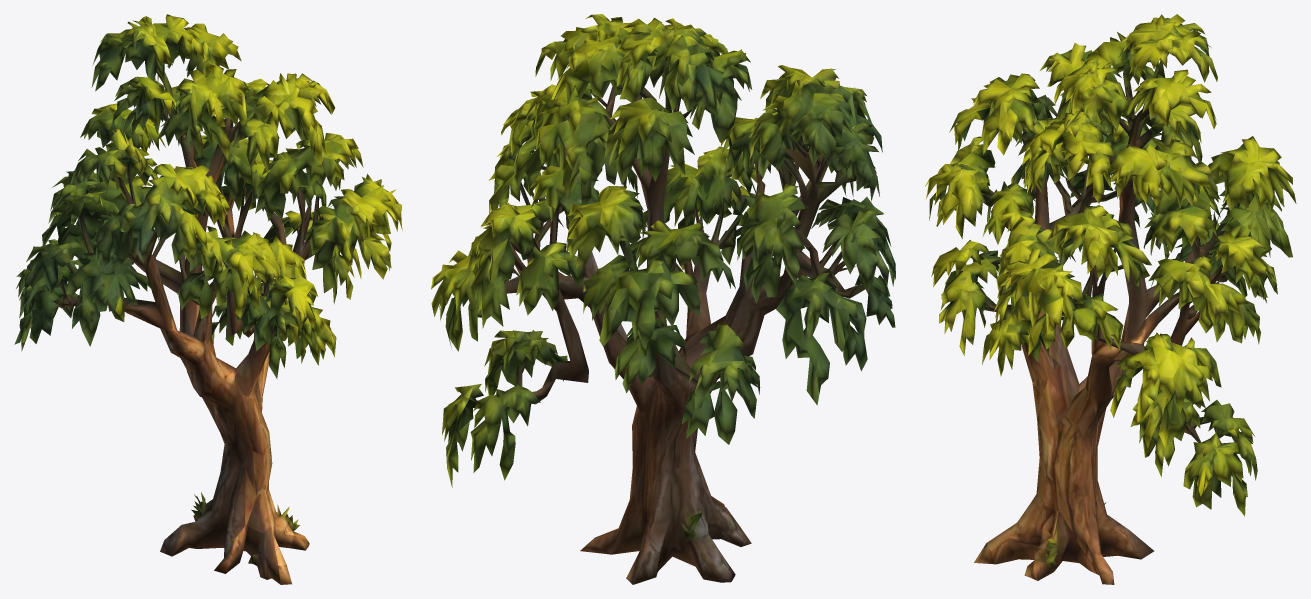
The model's file is tree.glb.
The picture shows the model from 3 angles, left to right: view 1: azimuth 30°, elevation 25°; view 2: azimuth 150°, elevation 25°; view 3: azimuth 270°, elevation 25°; orthographic projection. The views are drawn at different scales.
Visible parts, largest first — view 1: TripoTree_Mesh; view 2: TripoTree_Mesh; view 3: TripoTree_Mesh.
Part boxes in pixels (x1,y1,x2,y2): TripoTree_Mesh: (14, 14, 402, 584); TripoTree_Mesh: (431, 14, 895, 584); TripoTree_Mesh: (925, 14, 1296, 584).
Size of the model in its own units: 2.5 by 3.4 by 2.2.
Materials: 1 (1 with a texture image).
